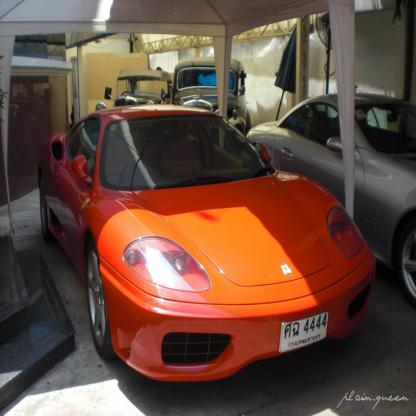Car: (49, 92, 369, 390), (242, 92, 416, 311), (162, 57, 252, 158), (96, 67, 174, 142)
